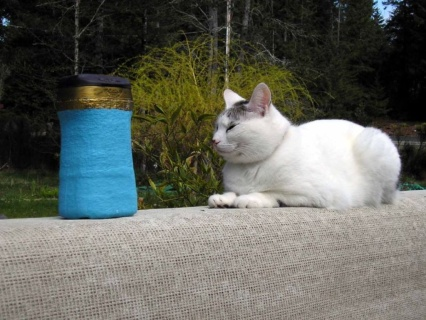Cat: (206, 80, 402, 208)
